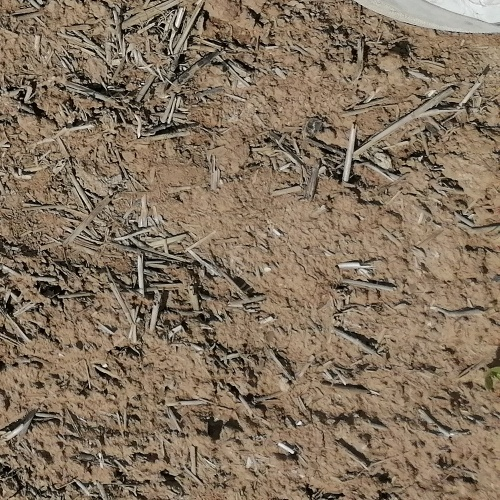beet: (483, 364, 500, 391)
